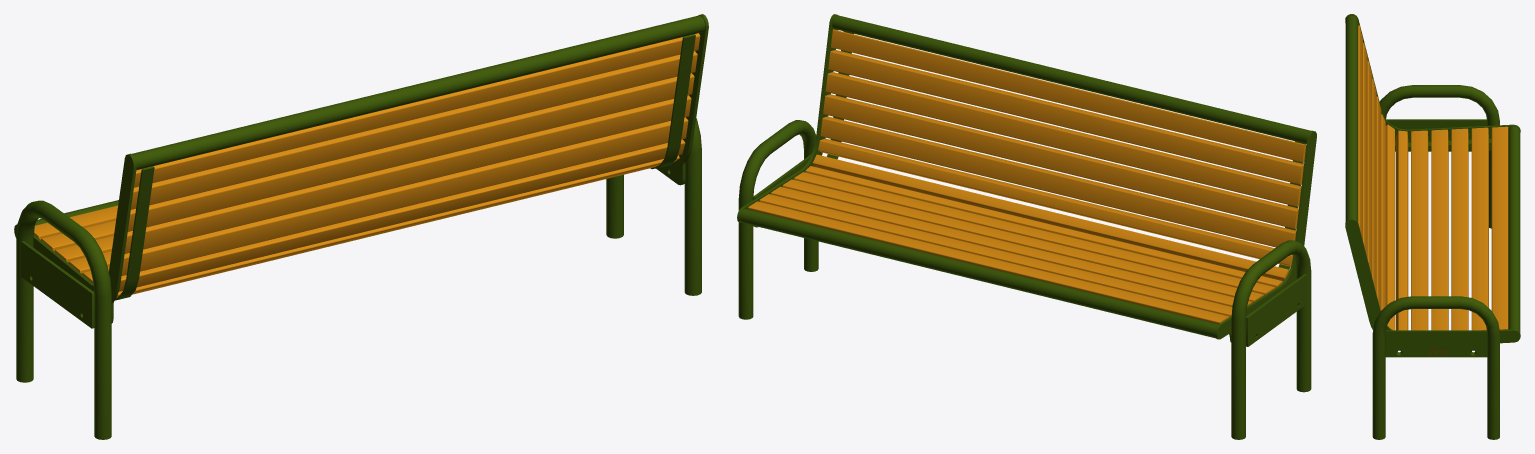
The picture shows the model from 3 angles, left to right: view 1: azimuth 30°, elevation 25°; view 2: azimuth 150°, elevation 25°; view 3: azimuth 270°, elevation 25°; orthographic projection. The views are drawn at different scales.
Parts seen in each view (by area): view 1: mesh37_mesh37-geometry, mesh41_mesh41-geometry, mesh2_mesh2-geometry, mesh39_mesh39-geometry, mesh16_mesh16-geometry, mesh1_mesh1-geometry, mesh18_mesh18-geometry, mesh14_mesh14-geometry, mesh13_mesh13-geometry, mesh17_mesh17-geometry; view 2: mesh37_mesh37-geometry, mesh41_mesh41-geometry, mesh39_mesh39-geometry, mesh2_mesh2-geometry, mesh15_mesh15-geometry, mesh16_mesh16-geometry, mesh1_mesh1-geometry, mesh18_mesh18-geometry, mesh17_mesh17-geometry; view 3: mesh37_mesh37-geometry, mesh2_mesh2-geometry, mesh41_mesh41-geometry, mesh39_mesh39-geometry, mesh1_mesh1-geometry, mesh16_mesh16-geometry, mesh15_mesh15-geometry, mesh17_mesh17-geometry, mesh18_mesh18-geometry.
Boxes of the visible parts, left/top/right/bottom form: mesh37_mesh37-geometry: left=41, top=51, right=697, bottom=282; mesh41_mesh41-geometry: left=116, top=139, right=685, bottom=297; mesh2_mesh2-geometry: left=16, top=118, right=701, bottom=439; mesh39_mesh39-geometry: left=34, top=33, right=700, bottom=239; mesh16_mesh16-geometry: left=132, top=15, right=705, bottom=170; mesh1_mesh1-geometry: left=21, top=183, right=684, bottom=328; mesh18_mesh18-geometry: left=14, top=153, right=136, bottom=323; mesh14_mesh14-geometry: left=650, top=34, right=695, bottom=169; mesh13_mesh13-geometry: left=115, top=166, right=154, bottom=300; mesh17_mesh17-geometry: left=656, top=14, right=708, bottom=185; mesh37_mesh37-geometry: left=759, top=50, right=1303, bottom=317; mesh41_mesh41-geometry: left=805, top=138, right=1293, bottom=287; mesh39_mesh39-geometry: left=748, top=29, right=1306, bottom=323; mesh2_mesh2-geometry: left=738, top=120, right=1311, bottom=439; mesh15_mesh15-geometry: left=740, top=208, right=1218, bottom=338; mesh16_mesh16-geometry: left=832, top=15, right=1310, bottom=143; mesh1_mesh1-geometry: left=753, top=154, right=1307, bottom=346; mesh18_mesh18-geometry: left=1214, top=130, right=1316, bottom=342; mesh17_mesh17-geometry: left=737, top=14, right=838, bottom=227; mesh37_mesh37-geometry: left=1363, top=43, right=1488, bottom=330; mesh2_mesh2-geometry: left=1372, top=85, right=1499, bottom=439; mesh41_mesh41-geometry: left=1381, top=114, right=1408, bottom=330; mesh39_mesh39-geometry: left=1358, top=25, right=1508, bottom=329; mesh1_mesh1-geometry: left=1385, top=119, right=1487, bottom=357; mesh16_mesh16-geometry: left=1345, top=15, right=1357, bottom=221; mesh15_mesh15-geometry: left=1508, top=126, right=1520, bottom=332; mesh17_mesh17-geometry: left=1345, top=218, right=1520, bottom=353; mesh18_mesh18-geometry: left=1345, top=14, right=1520, bottom=151.
Bounding box in the file's own units: 0.8667 × 0.4008 × 0.2968.
